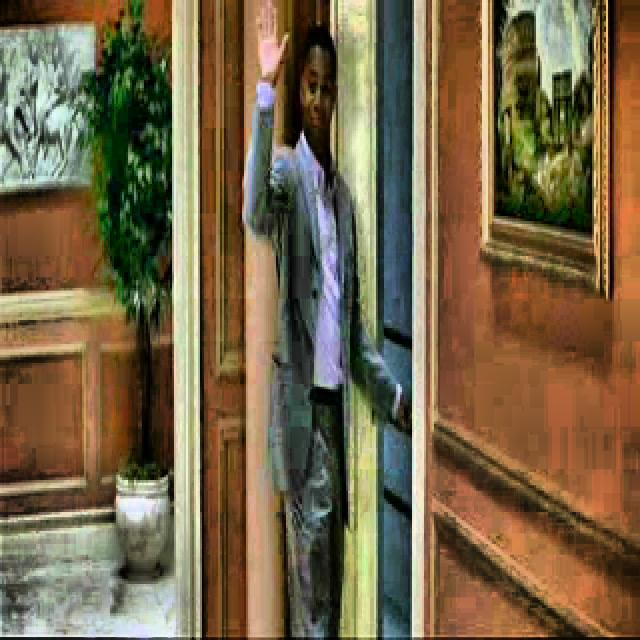T: (231, 2, 415, 632)
